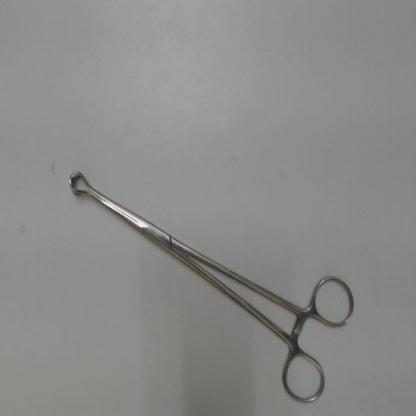8 Babcock Tissue Forceps: (63, 159, 358, 410)
